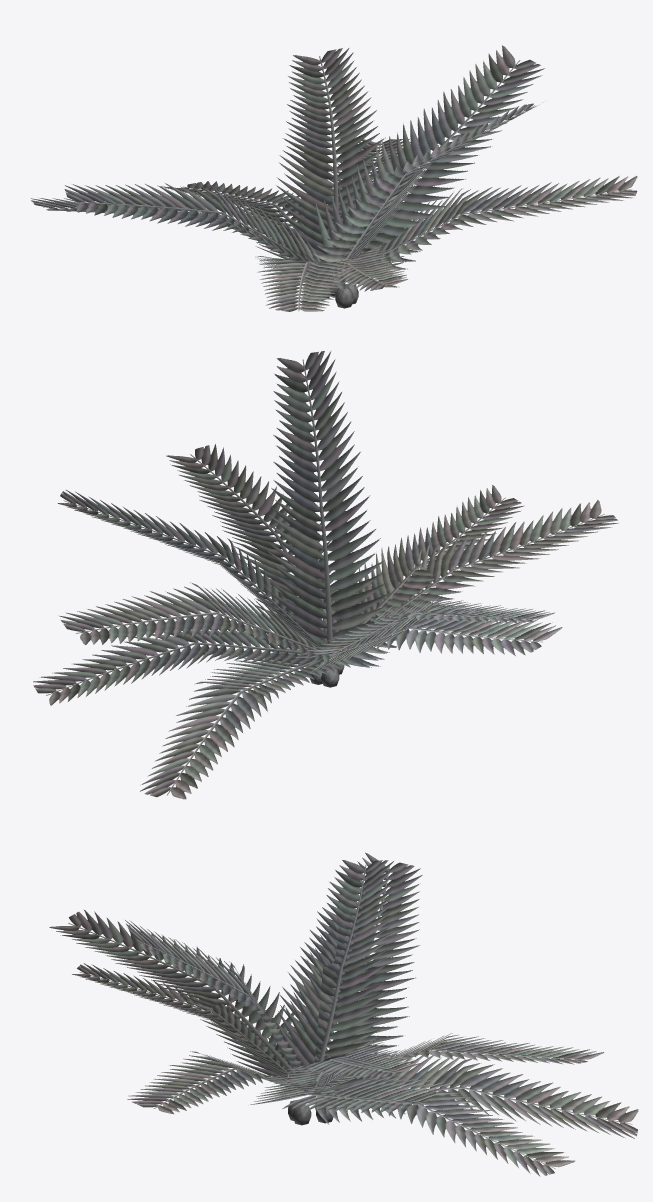
The model's file is palm_l1.gltf.
The picture shows the model from 3 angles, top to bottom: view 1: azimuth 30°, elevation 25°; view 2: azimuth 150°, elevation 25°; view 3: azimuth 270°, elevation 25°; orthographic projection. The views are drawn at different scales.
Parts seen in each view (by area): view 1: palm_l1; view 2: palm_l1; view 3: palm_l1.
Part boxes in pixels (bbox=[...]): palm_l1: bbox=[31, 45, 637, 311]; palm_l1: bbox=[33, 351, 618, 799]; palm_l1: bbox=[49, 852, 638, 1176].
Size of the model in its own units: 9.05 by 4.3 by 9.26.
1 material, 1 textured.
